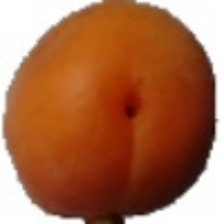apricot: (16, 36, 182, 181)
